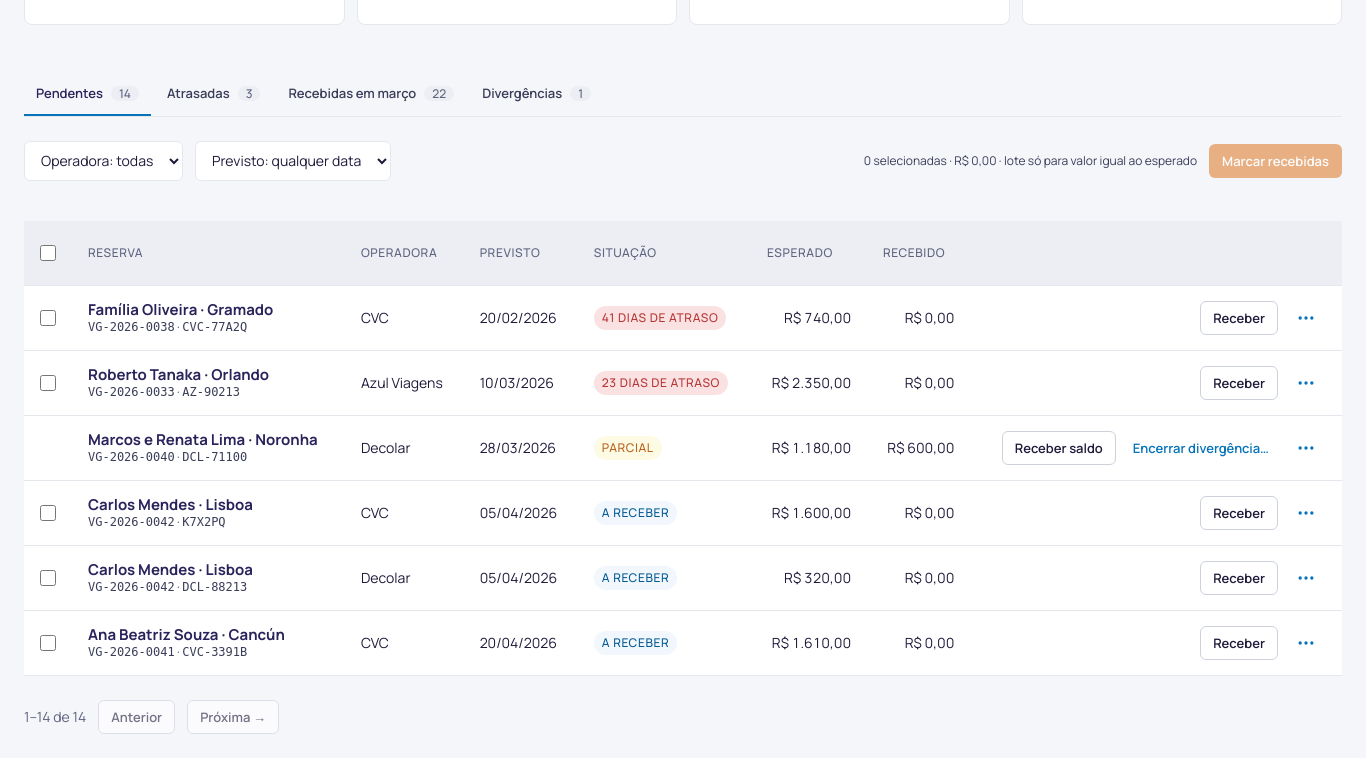
Test case: abrir 'Encerrar divergência…' mostra o hint do motivo sem 'Período fechado ou exclusão' (X02)
(page scrolled)
Check: the text "Marcos e Renata Lima · Noronha" is shown, box [88, 430, 329, 449]
What coordinates should you click on to do the following:
click the button "Encerrar divergência…"
I would click on:
 (1201, 448)
Its box is [1124, 431, 1278, 465].
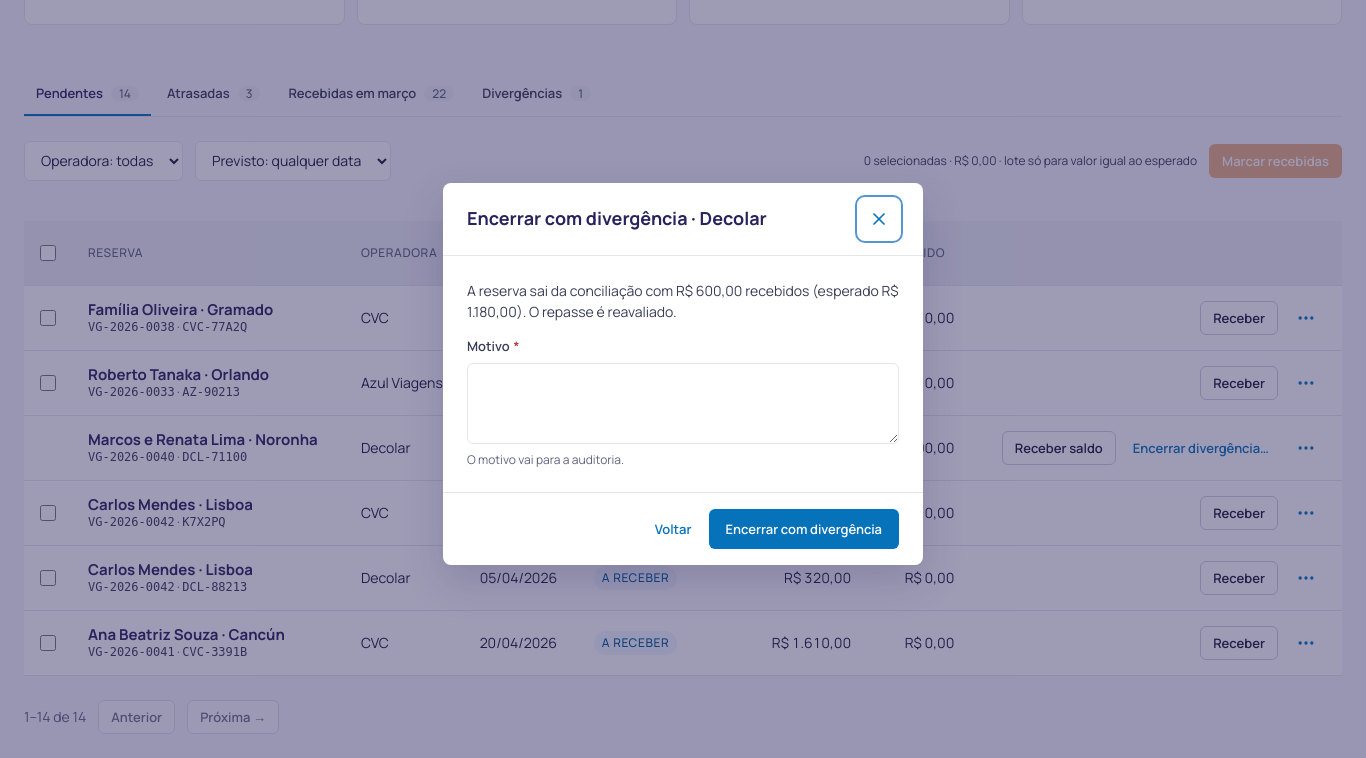
Check: the text "O motivo vai para a auditoria." is shown, box [467, 450, 624, 468]
